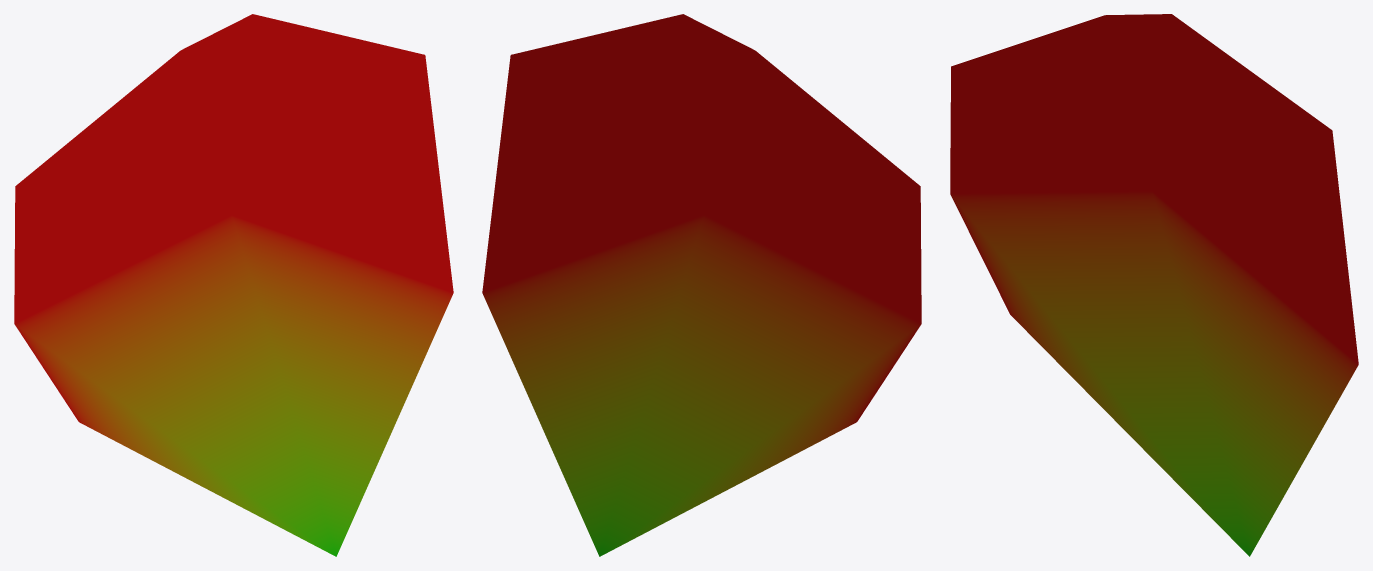
File: Rose Hip_LOD5_Var4.fbx
3 views of the same model, side by side, from view 1: azimuth 30°, elevation 25°; view 2: azimuth 150°, elevation 25°; view 3: azimuth 330°, elevation 25° (orthographic). The views are drawn at different scales.
Parts seen in each view (by area): view 1: _uufu_Var4_LOD5; view 2: _uufu_Var4_LOD5; view 3: _uufu_Var4_LOD5.
Boxes of the visible parts, box(x1,y1,x2,y2) form: _uufu_Var4_LOD5: box(14, 14, 453, 556); _uufu_Var4_LOD5: box(482, 14, 921, 556); _uufu_Var4_LOD5: box(950, 14, 1358, 556).
Size of the model in its own units: 104 by 127 by 1.75e-10.
